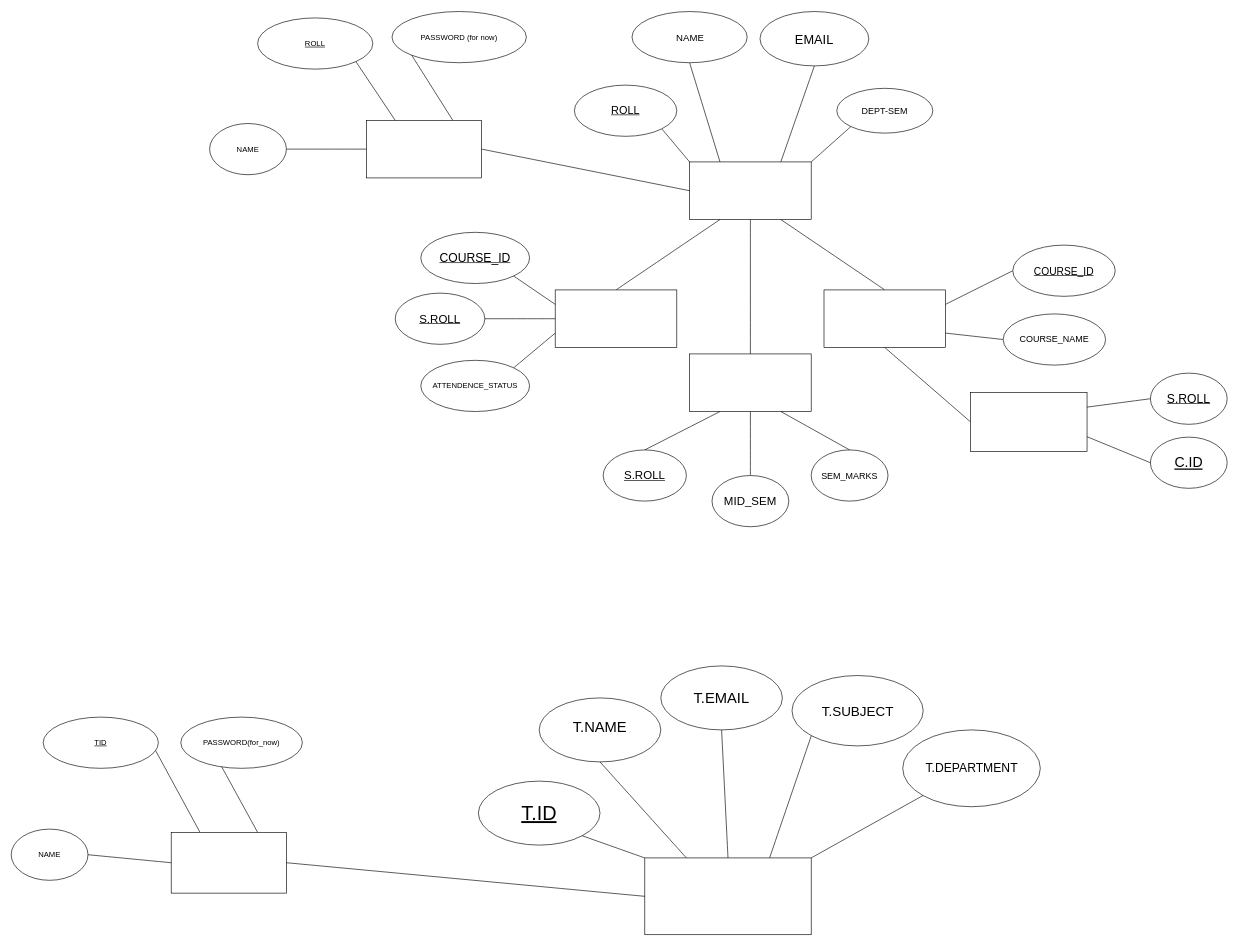
Some shapes in this 1238 by 946 pixel diagram are drawn without their labels. The shapes that lost their labels are listed below. From the top down, each one's centre as x and y in pixels, then its label:
(x=424, y=149): STUDENT LOGIN
(x=750, y=190): STUDENT
(x=616, y=318): ATTENDENCE
(x=884, y=318): COURSES
(x=750, y=382): ACADEMICS
(x=1028, y=422): STU_COURSES
(x=228, y=862): TEACHER LOGIN
(x=727, y=896): TEACHERS
